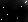person: (10, 7, 18, 19)
